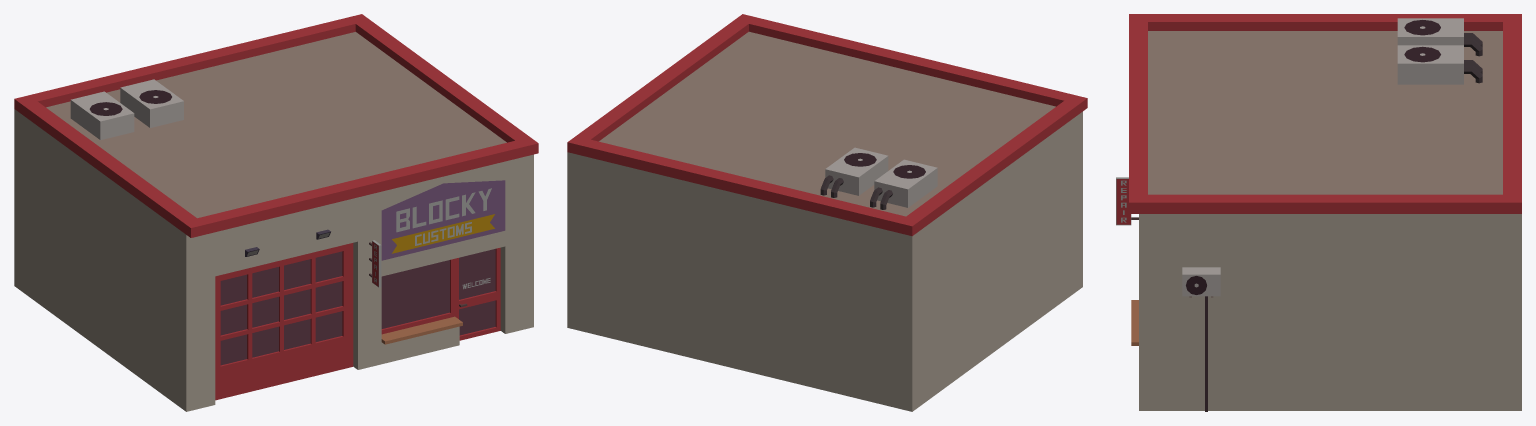
Rendered from Building_10.fbx.
3 renders of one model, left to right at view 1: azimuth 30°, elevation 25°; view 2: azimuth 150°, elevation 25°; view 3: azimuth 270°, elevation 25°, orthographic. The views are drawn at different scales.
Visible parts, largest first — view 1: Building_10, Building_10LP; view 2: Building_10; view 3: Building_10.
Boxes of the visible parts, x1,y1,x2,y2 form: Building_10: (14, 14, 538, 411); Building_10LP: (220, 188, 495, 365); Building_10: (567, 14, 1087, 411); Building_10: (1116, 14, 1521, 411).
Bounding box in the file's own units: 11.38 × 5.95 × 9.94.
